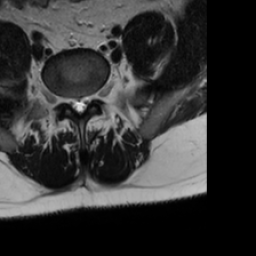CCS_normal: (76, 89, 83, 121)
LFS_normal: (89, 85, 97, 105)
LLS_normal: (83, 89, 90, 112)
RFS_stenosis: (61, 89, 69, 110)
RLS_normal: (69, 90, 76, 113)
